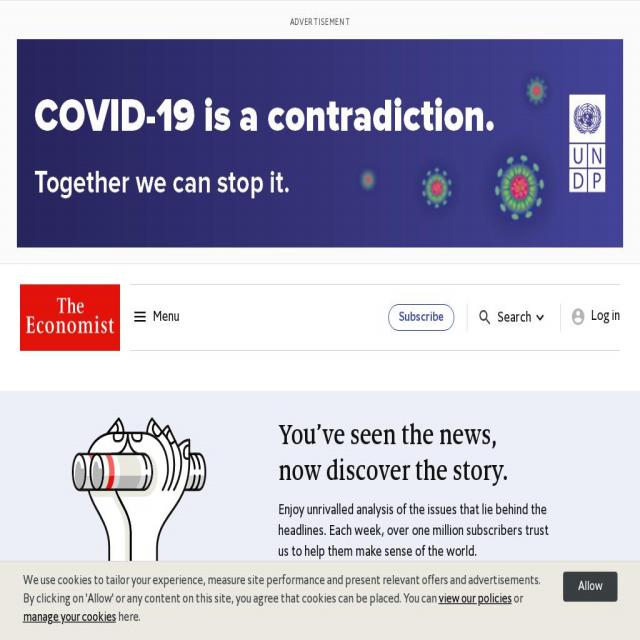login-option: (570, 303, 625, 331)
options: (128, 295, 183, 339)
search: (473, 300, 551, 334)
